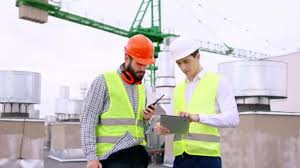casque: (85, 19, 238, 168)
